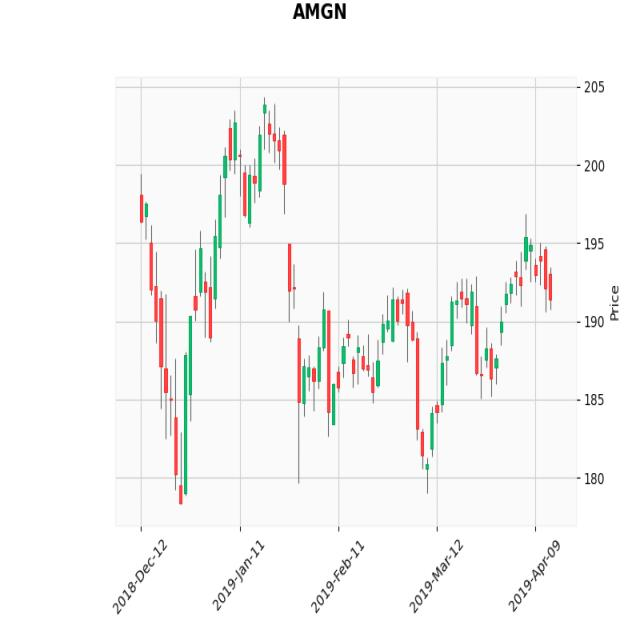Double-Top: (212, 92, 295, 248)
Inverse-Head-Shoulders: (321, 224, 556, 480)
